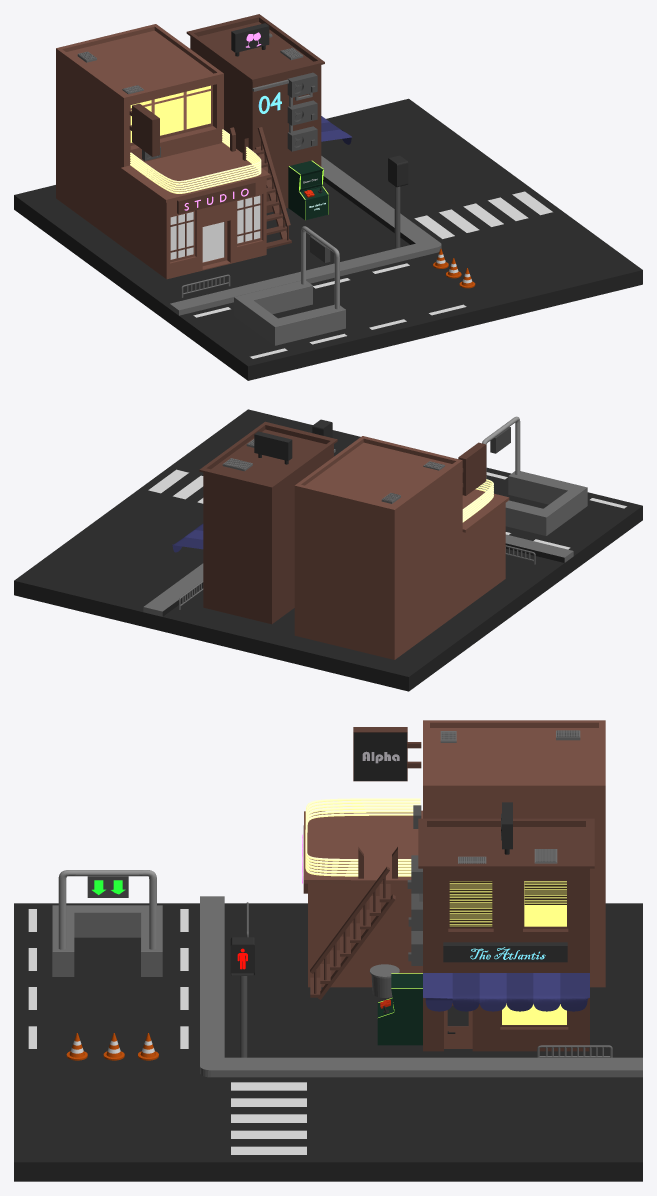
Rendered from FuturisticBuilding.fbx.
3 renders of one model, top to bottom at view 1: azimuth 30°, elevation 25°; view 2: azimuth 150°, elevation 25°; view 3: azimuth 270°, elevation 25°, orthographic. The views are drawn at different scales.
Parts seen in each view (by area): view 1: Cube, Cube.001, Cube.015, Cube.012, BézierCurve, Cube.020, Plane.004, Cube.002, Cube.003, Cube.034, Cube.033, Cube.022 (+9 smaller); view 2: Cube, Cube.001, Cube.015, Cube.012, Cube.002, Cube.022, Plane.004, Cylinder.003, BézierCurve, Plane.005; view 3: Cube, Cube.001, Cube.015, Plane.005, Cube.012, Plane.004, BézierCurve, Cube.002, Cube.020, Cube.019, Plane.006, Cylinder.003 (+11 smaller).
Part boxes in pixels (box(x1,y1,x2,y2)): Cube: box(14, 98, 642, 380); Cube.001: box(56, 24, 270, 279); Cube.015: box(186, 14, 324, 212); Cube.012: box(234, 281, 345, 345); BézierCurve: box(130, 129, 261, 193); Cube.020: box(288, 160, 328, 220); Plane.004: box(414, 191, 552, 238); Cube.002: box(129, 103, 159, 156); Cube.003: box(177, 181, 255, 214); Cube.034: box(237, 195, 260, 243); Cube.033: box(170, 212, 193, 259); Cube.022: box(231, 23, 269, 52); Cube: box(14, 409, 642, 691); Cube.001: box(294, 436, 509, 659); Cube.015: box(199, 421, 337, 624); Cube.012: box(505, 471, 587, 535); Cube.002: box(458, 442, 486, 495); Cube.022: box(254, 431, 292, 460); Plane.004: box(148, 469, 203, 503); Cylinder.003: box(481, 416, 520, 490); BézierCurve: box(462, 479, 493, 522); Plane.005: box(172, 523, 203, 552); Cube: box(14, 896, 642, 1181); Cube.001: box(304, 720, 605, 987); Cube.015: box(418, 818, 594, 1051); Plane.005: box(423, 973, 589, 1011); Cube.012: box(52, 905, 162, 976); Plane.004: box(231, 1082, 306, 1154); BézierCurve: box(305, 798, 420, 876); Cube.002: box(353, 727, 421, 781); Cube.020: box(377, 973, 422, 1045); Cube.019: box(443, 942, 567, 962); Plane.006: box(449, 881, 492, 927); Cylinder.003: box(58, 870, 156, 949).
Bounding box in the file's own units: 5033 × 2099 × 5169.
